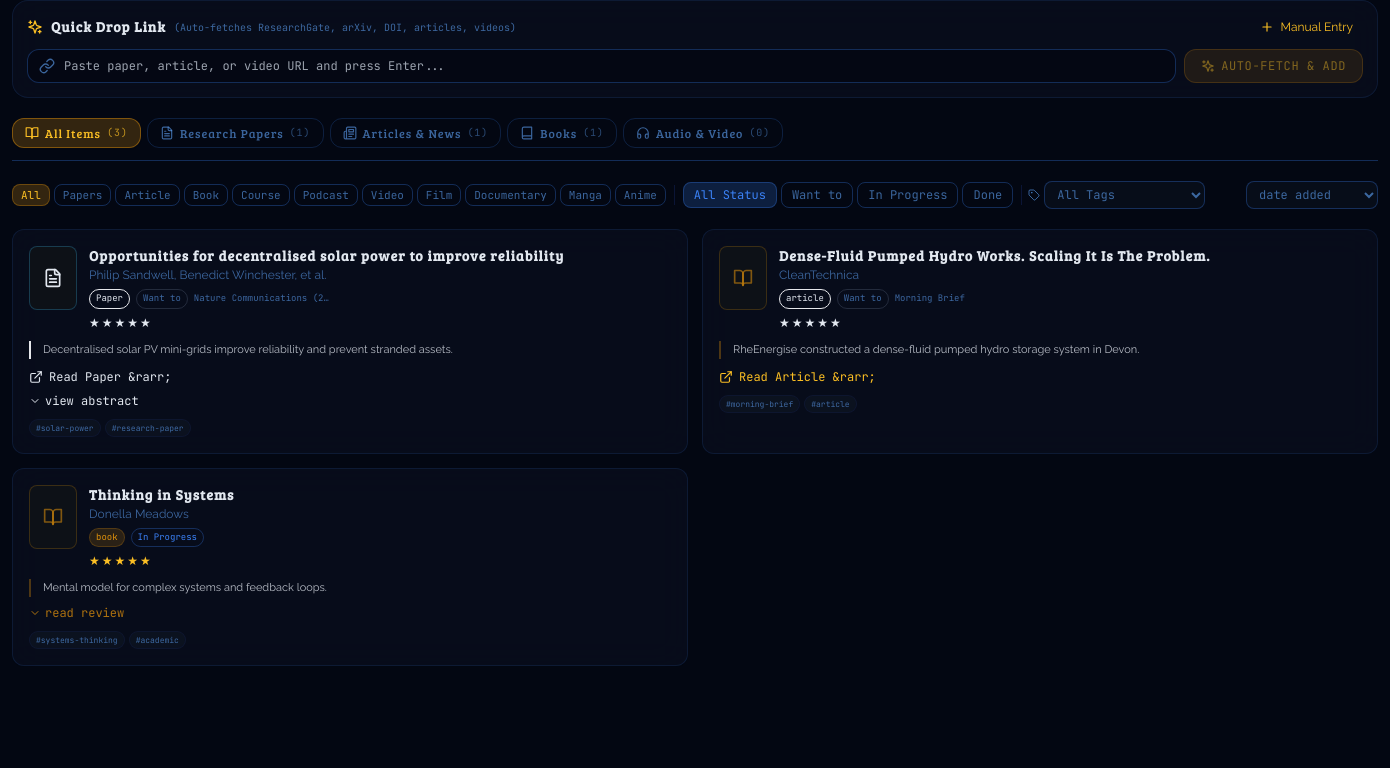
MediaLog › filters by tag when clicking tag badges
The image size is (1390, 768).
Expected: the heading "Thinking in Systems" is shown, [89, 485, 234, 504]
Click the button titled "Filter by #solar-power": (65, 428) [29, 419, 101, 437]
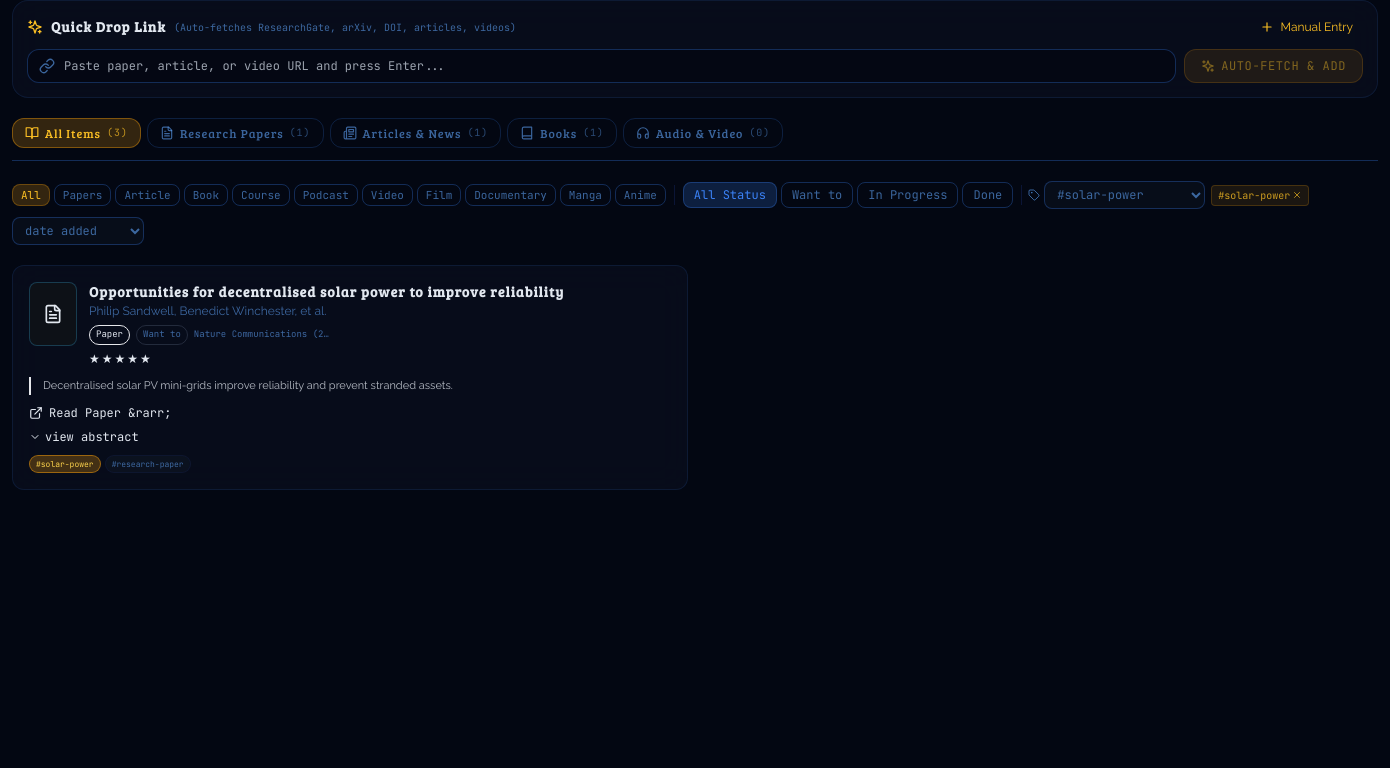
Expected: the heading "Opportunities for decentralised solar power to improve reliability" is shown, [89, 282, 611, 301]
Result: the heading "Thinking in Systems" is gone
